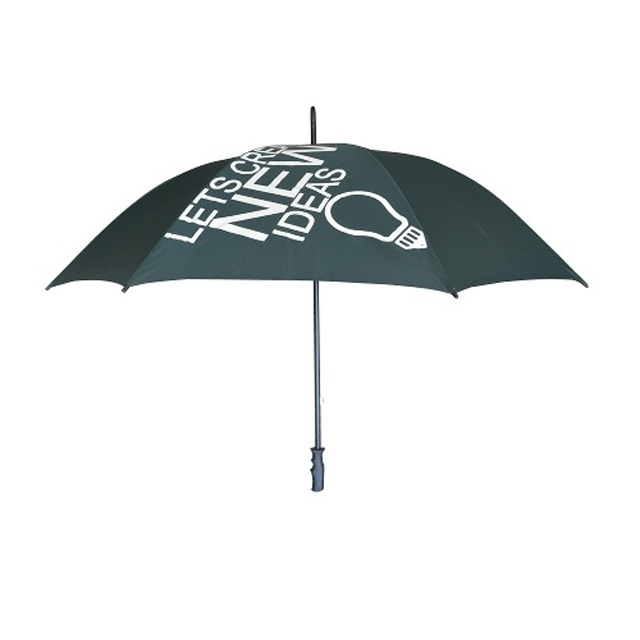umbrella: (42, 102, 595, 499)
